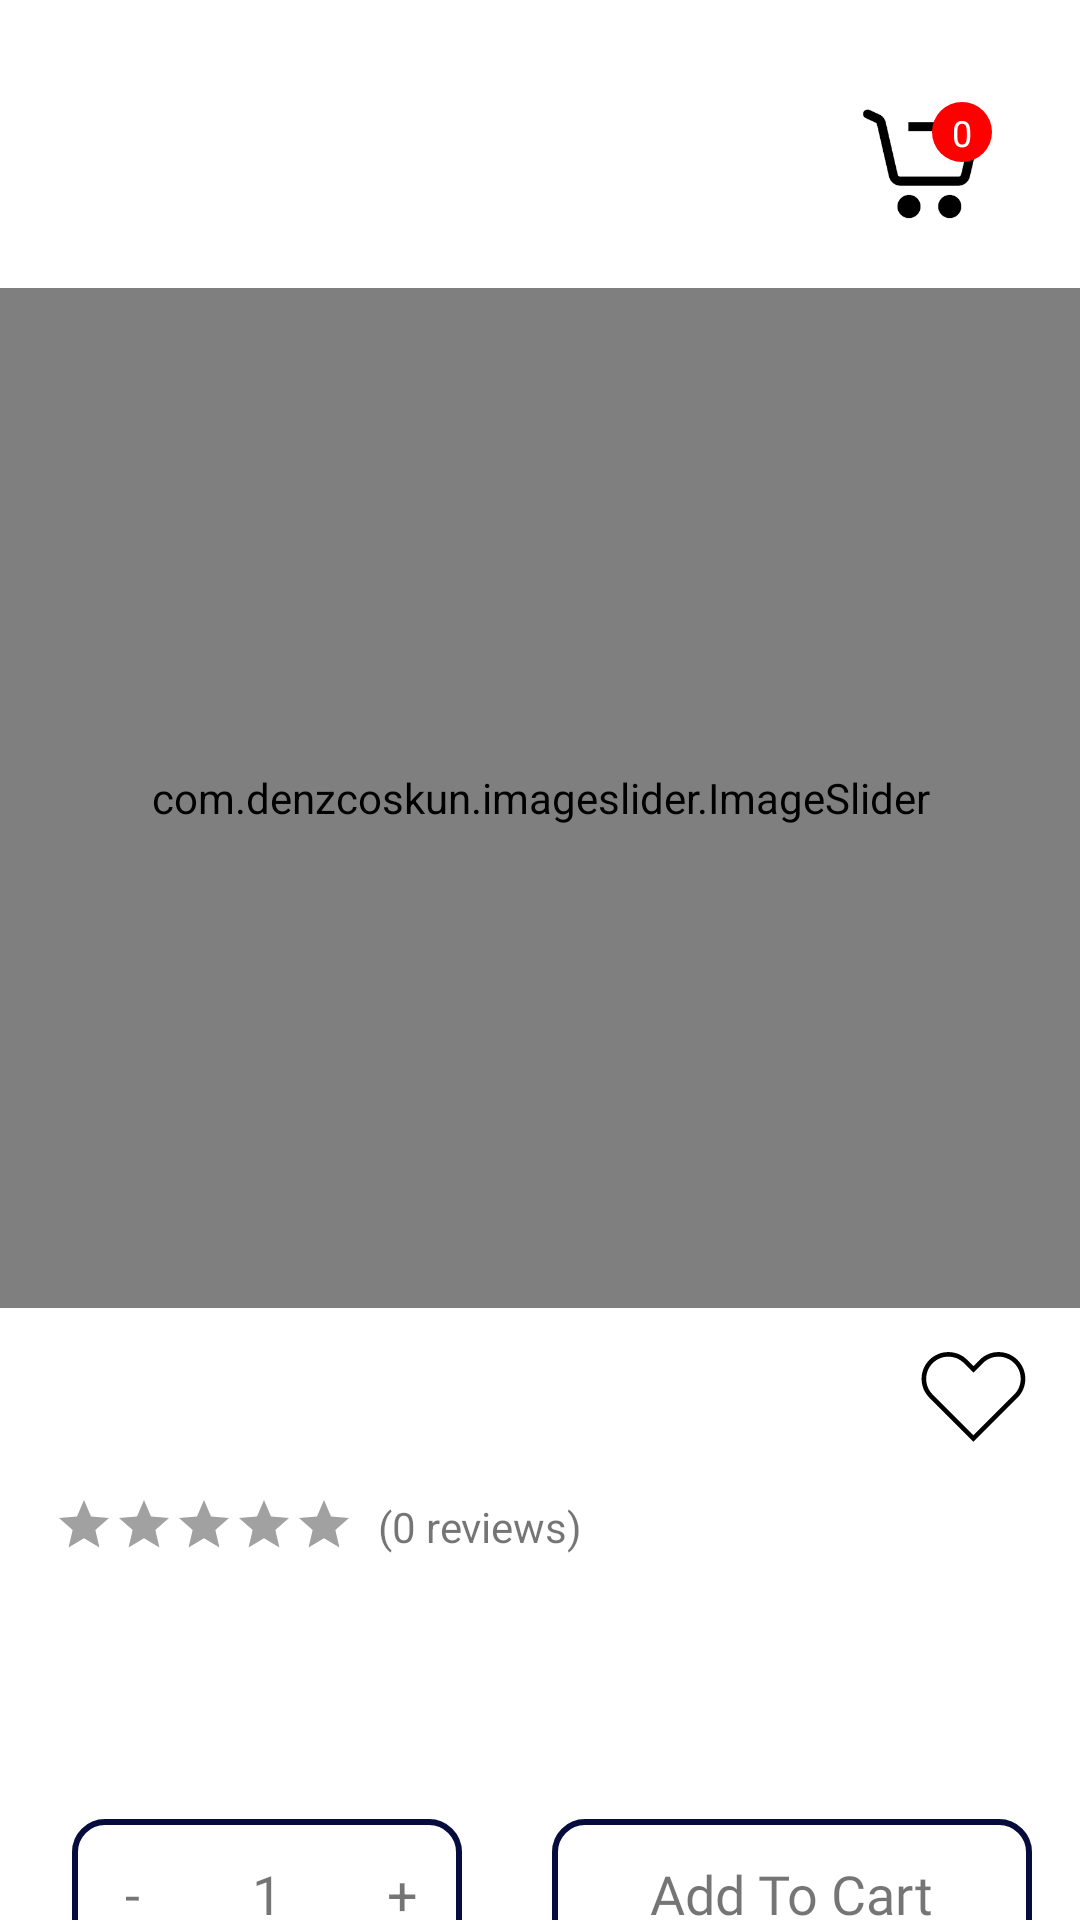

Screen size 1080*1920. Icon name, then its box in pixels as box(x1, y1, x2, y2):
Cart Icon: box(863, 102, 981, 219)
rating: box(59, 1501, 109, 1547), box(119, 1501, 169, 1547), box(179, 1501, 229, 1547), box(239, 1501, 289, 1547), box(299, 1501, 349, 1547)
whishlist: box(921, 1352, 1026, 1442)
